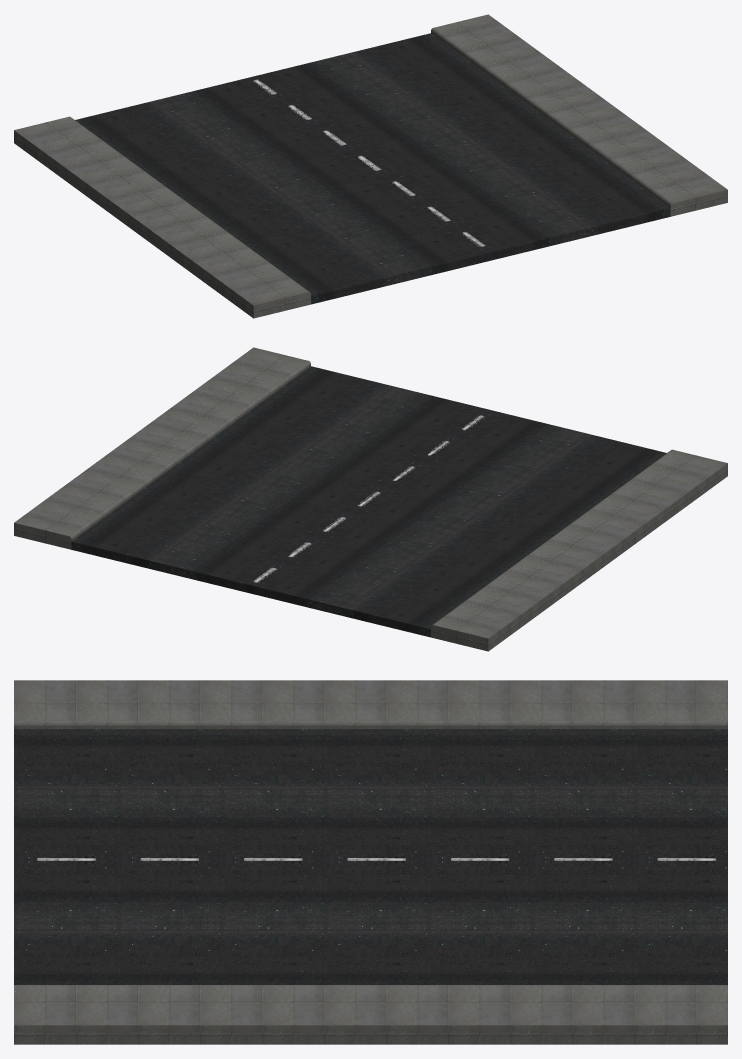
File: road.glb
3 views of the same model, one above another, from view 1: azimuth 30°, elevation 25°; view 2: azimuth 150°, elevation 25°; view 3: azimuth 270°, elevation 25° (orthographic). The views are drawn at different scales.
Visible parts, largest first — view 1: Model; view 2: Model; view 3: Model.
Part boxes in pixels (box(x1,y1,x2,y2)): Model: box(14, 14, 727, 318); Model: box(14, 347, 727, 651); Model: box(14, 680, 727, 1044).
Bounding box in the file's own units: 0.2092 × 0.0055 × 0.183.
3 materials, 3 textured.
